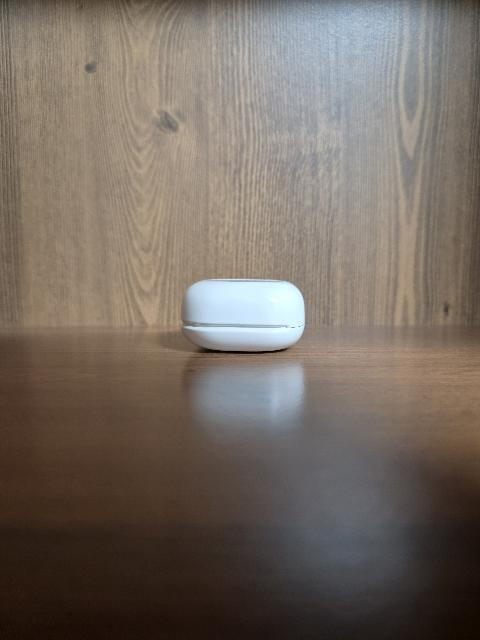earphone_case: (180, 278, 305, 351)
